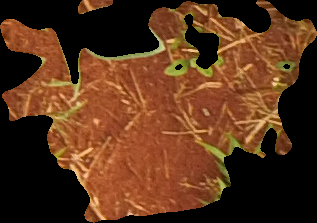soil: (2, 4, 313, 218)
